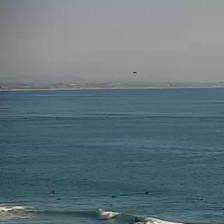surfer: (134, 217, 138, 223), (145, 191, 149, 195), (50, 194, 54, 198), (112, 195, 117, 198), (57, 198, 62, 201), (200, 198, 203, 201), (52, 190, 54, 194)
